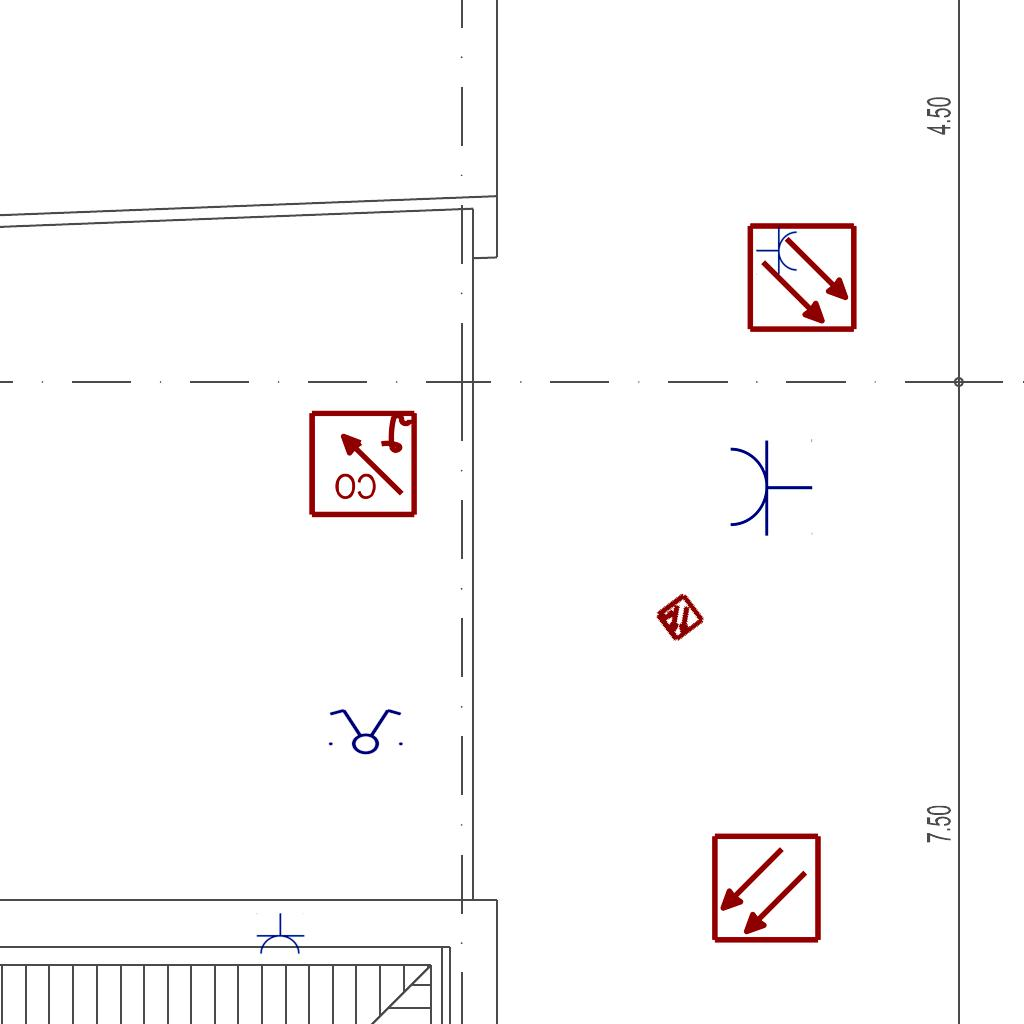OT_Multisensormelder_(Kombination_RMO_WMD): (639, 578, 719, 658)
RMO_Rauchmelder_optischer: (710, 832, 823, 945), (746, 221, 859, 334)
ROA_Rauchmelder_optisch_mit_Signalgeber_(Sockelsirene): (306, 406, 419, 519)
Schukosteckdose_einfach: (726, 437, 813, 537), (255, 913, 305, 956), (756, 226, 799, 276)
Serienschalter: (323, 707, 407, 755)
